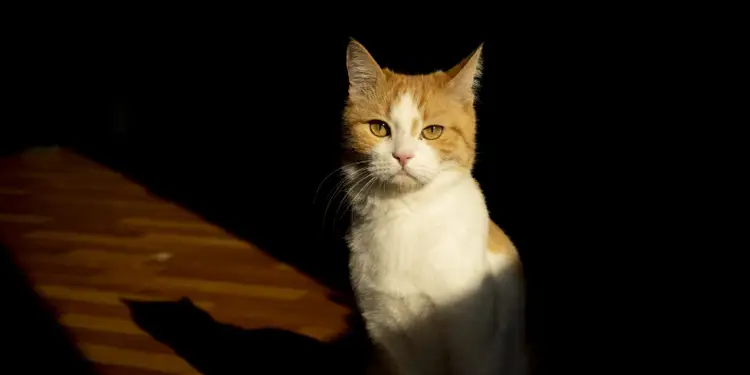cat: (338, 33, 527, 363)
